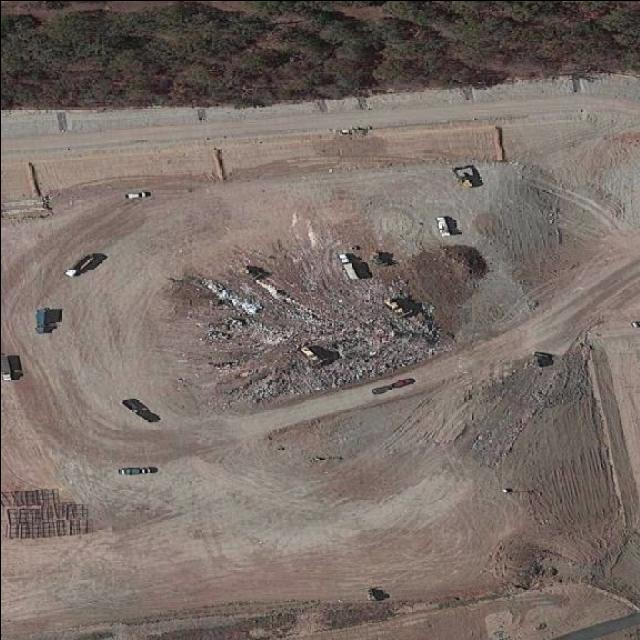dump_site: (179, 247, 349, 416), (323, 269, 449, 380)
